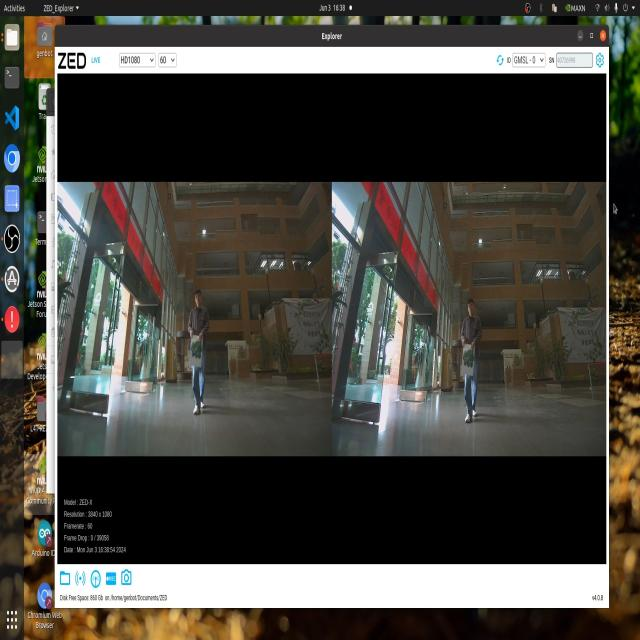green: (190, 338, 204, 368), (462, 346, 476, 371)
